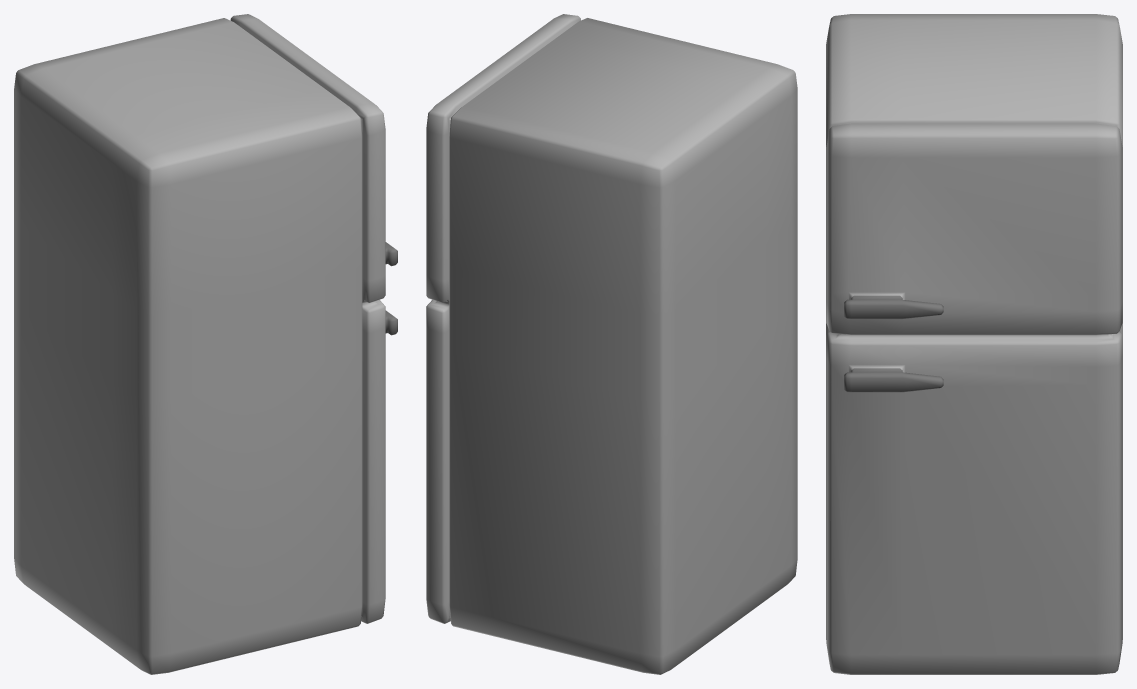
Rendered from geo_fridge.fbx.
3 views of the same model, side by side, from view 1: azimuth 30°, elevation 25°; view 2: azimuth 150°, elevation 25°; view 3: azimuth 270°, elevation 25° (orthographic). The views are drawn at different scales.
Visible parts, largest first — view 1: fridge; view 2: fridge; view 3: fridge.
Part boxes in pixels (<box>): fridge: <box>14,14,397,674</box>; fridge: <box>426,14,797,674</box>; fridge: <box>826,14,1122,674</box>.
Size of the model in its own units: 233 by 443 by 218.
